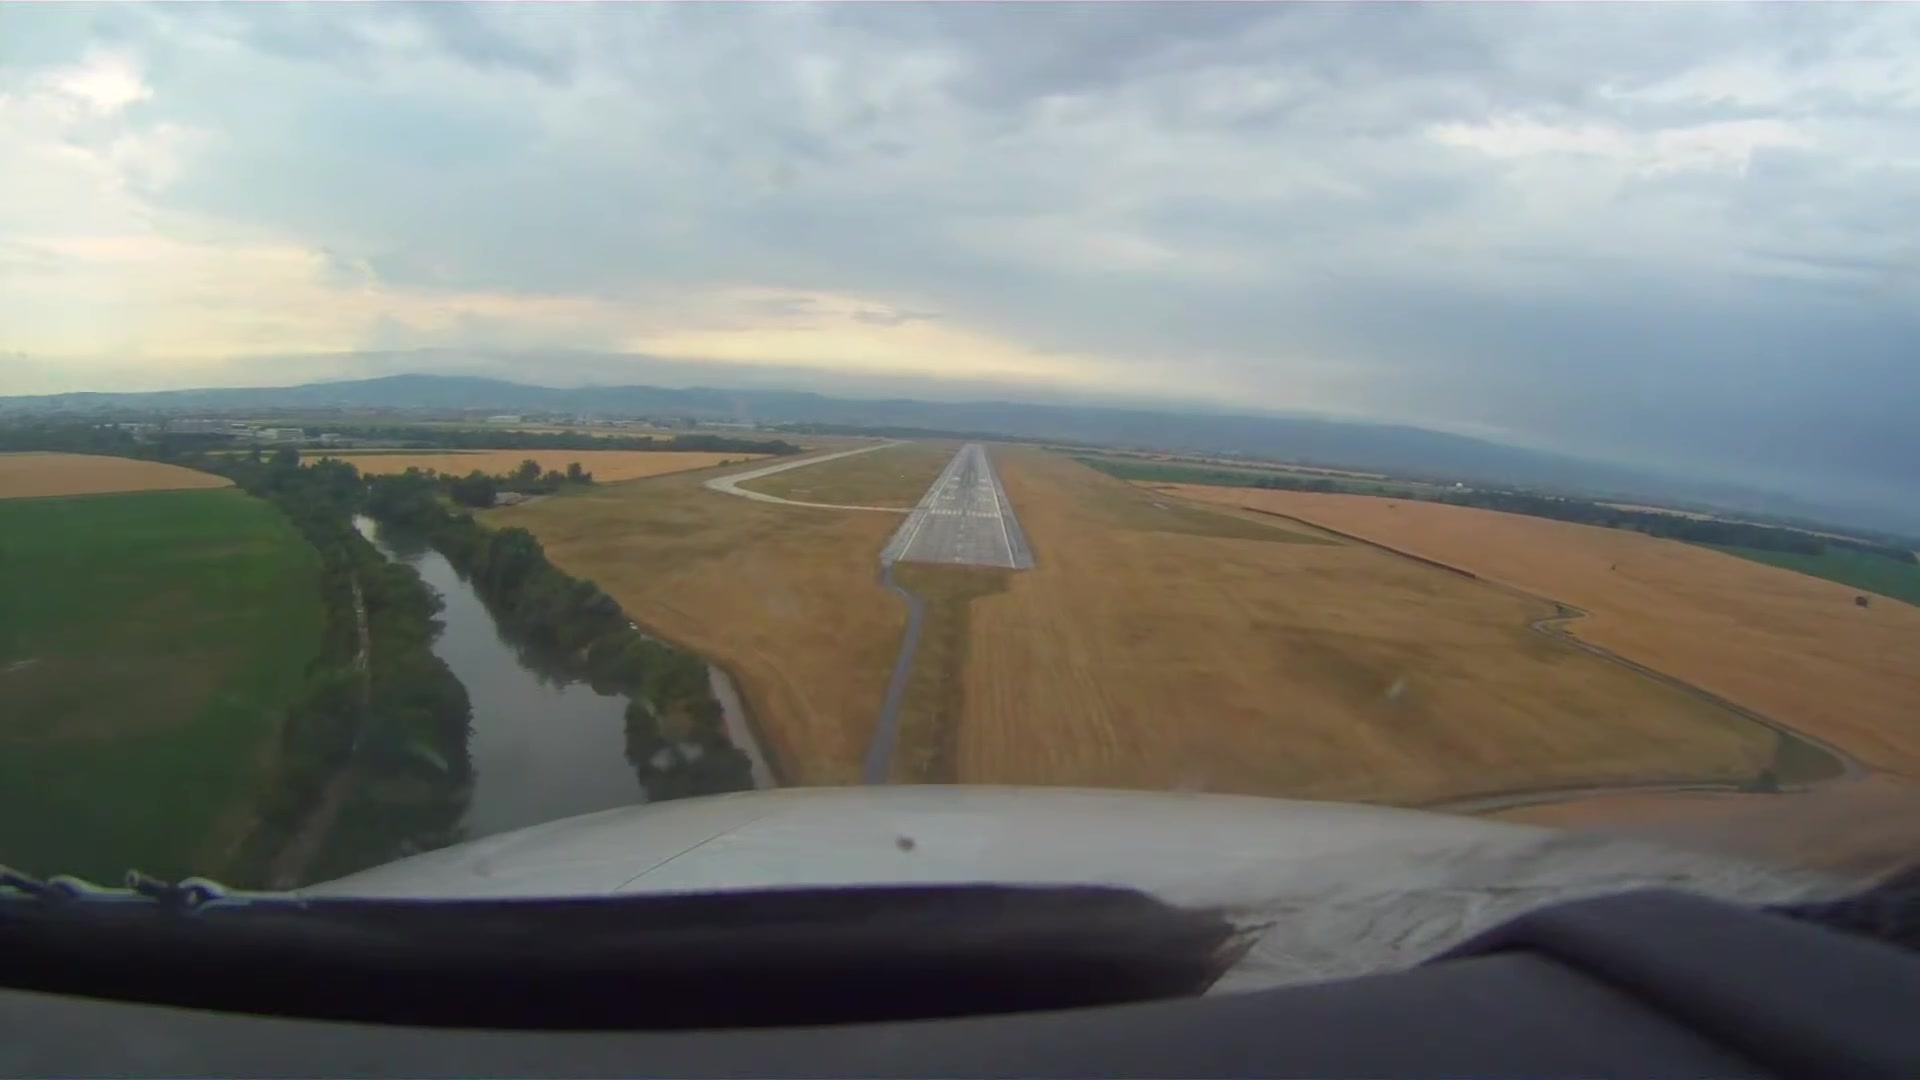entrance: (928, 506, 1002, 521)
runway: (882, 442, 1040, 571)
